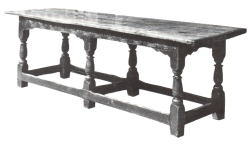obstacle: (0, 9, 249, 141)
